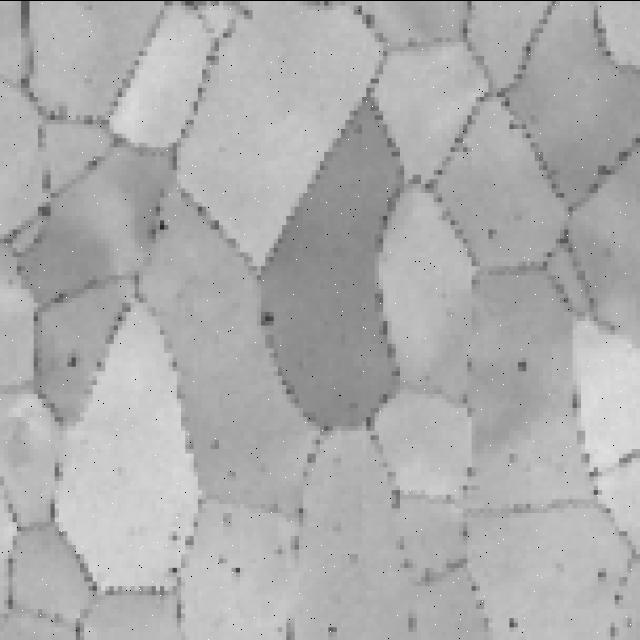good_void: (514, 350, 537, 374), (257, 309, 276, 328), (227, 558, 244, 578), (153, 214, 172, 231), (505, 613, 521, 633), (593, 567, 609, 584), (64, 351, 80, 367), (322, 622, 339, 637)
